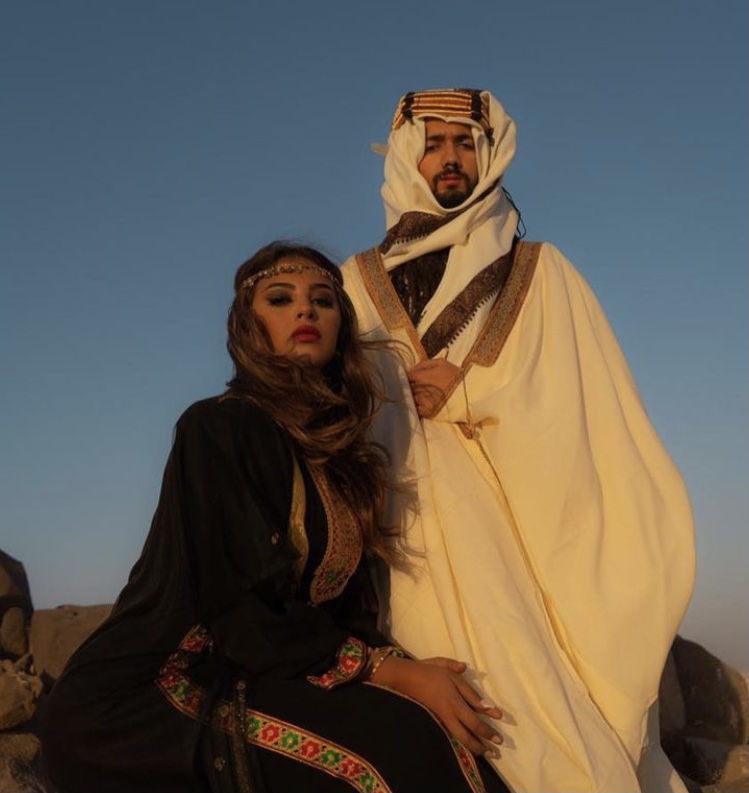Saudi_Founding_Day: (37, 236, 519, 793), (338, 84, 699, 793)
